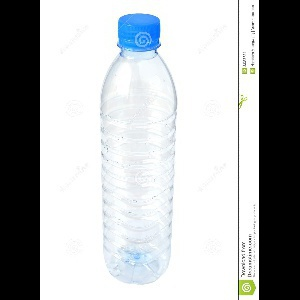emptybottle: (102, 14, 178, 281)
